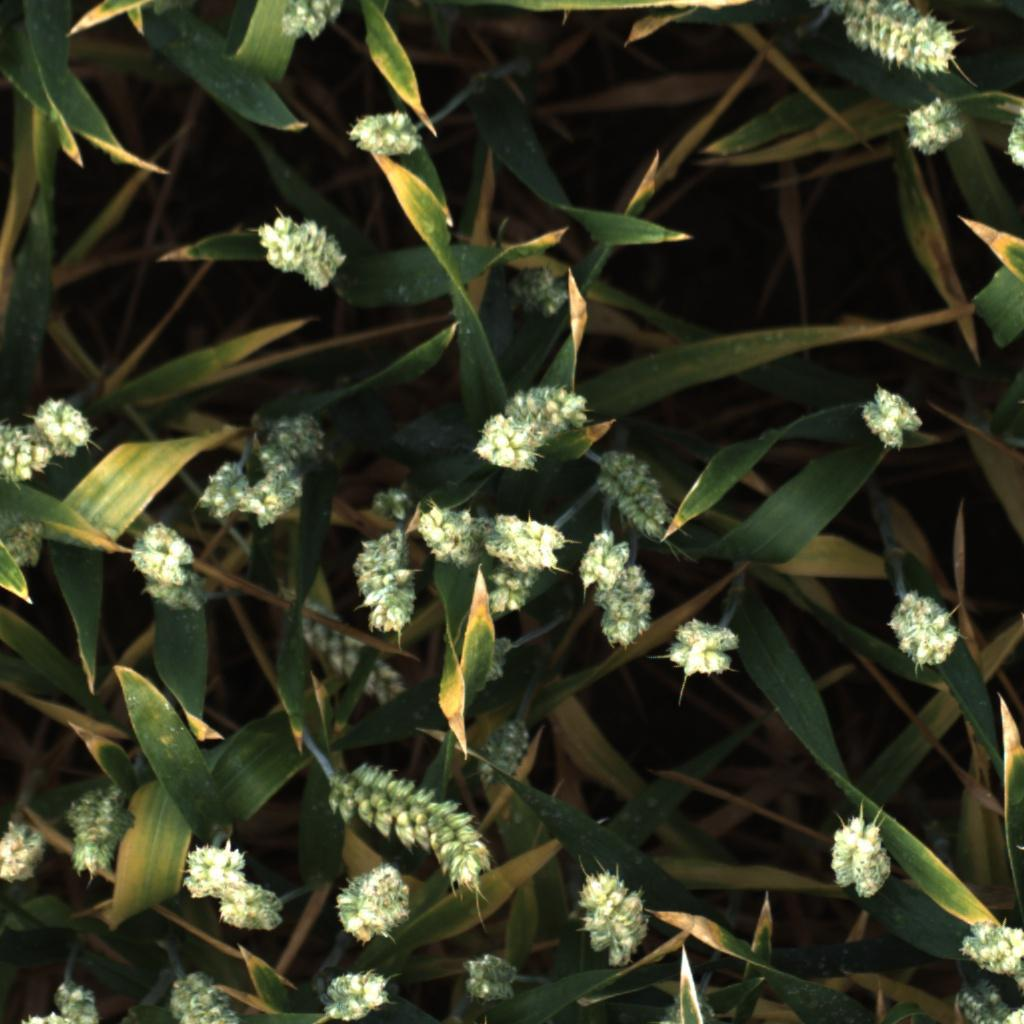0-0: (315, 750, 502, 895), (275, 589, 413, 723), (823, 0, 964, 87), (343, 525, 421, 646), (236, 429, 324, 531), (254, 215, 350, 291), (577, 871, 653, 965), (597, 443, 676, 533), (820, 811, 897, 902), (883, 588, 965, 672), (333, 870, 411, 946), (65, 788, 133, 875), (125, 511, 197, 591), (479, 512, 574, 569), (857, 380, 930, 454), (410, 491, 483, 564), (594, 571, 657, 653), (664, 619, 743, 683), (470, 716, 539, 787), (573, 525, 637, 596), (898, 95, 968, 159), (177, 840, 250, 901), (33, 390, 98, 458), (482, 546, 543, 618), (318, 966, 393, 1024), (471, 413, 546, 471), (345, 104, 420, 162), (509, 384, 594, 435), (955, 913, 1024, 974), (455, 948, 523, 1008), (260, 404, 329, 462), (125, 575, 210, 621), (193, 458, 253, 523), (0, 419, 58, 486), (220, 880, 288, 936), (1, 516, 58, 576), (167, 979, 241, 1024), (0, 816, 48, 883), (276, 0, 343, 47), (951, 974, 1011, 1024), (513, 266, 570, 318), (50, 977, 111, 1024), (364, 478, 417, 530), (484, 634, 516, 693), (994, 102, 1024, 164), (16, 1001, 90, 1024), (1009, 934, 1024, 1006)
